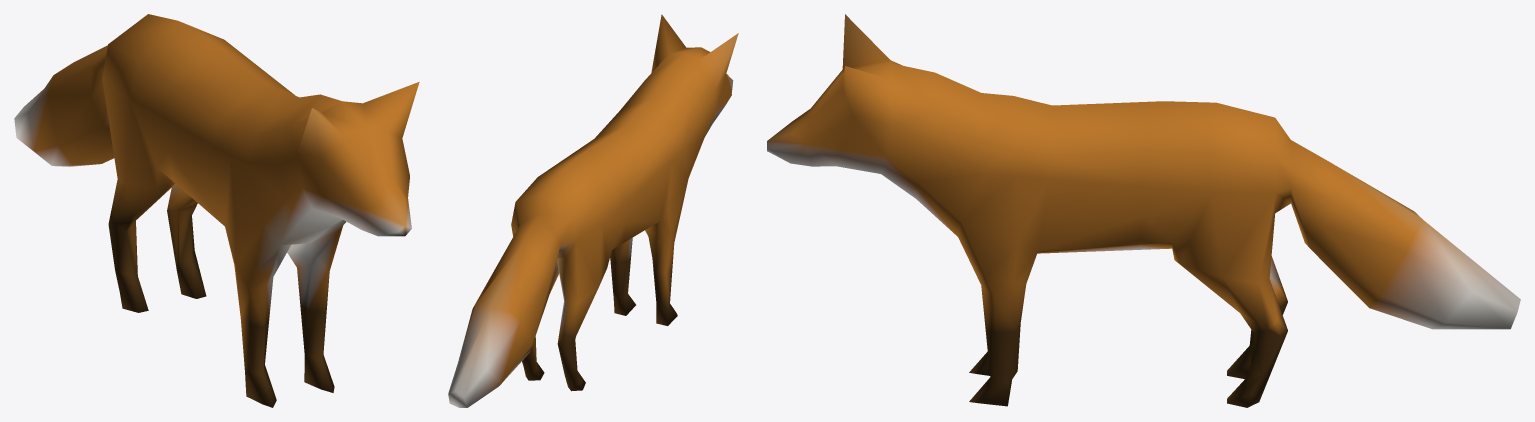
The model's file is fox.obj.
3 renders of one model, left to right at view 1: azimuth 30°, elevation 25°; view 2: azimuth 150°, elevation 25°; view 3: azimuth 270°, elevation 25°, orthographic. The views are drawn at different scales.
Bounding box in the file's own units: 25.19 × 79.03 × 155.
